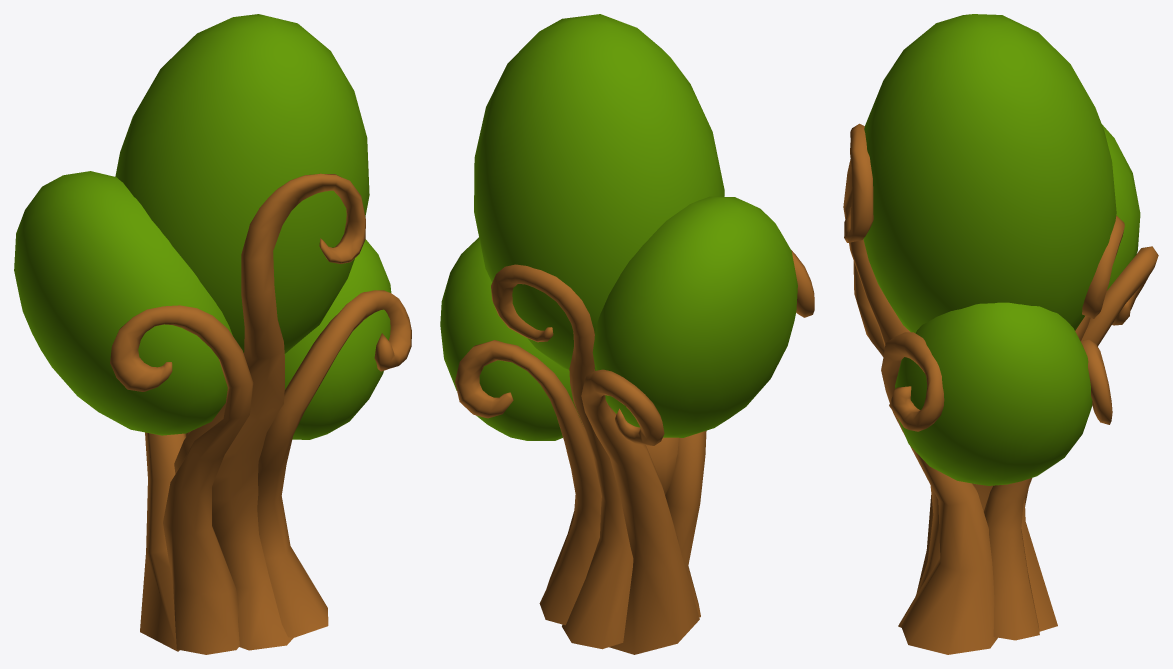
Rendered from tree_02.FBX.
3 views of the same model, side by side, from view 1: azimuth 30°, elevation 25°; view 2: azimuth 150°, elevation 25°; view 3: azimuth 270°, elevation 25° (orthographic). The views are drawn at different scales.
Visible parts, largest first — view 1: tree_02; view 2: tree_02; view 3: tree_02.
Boxes of the visible parts, <box> form: tree_02: <box>14,14,411,654</box>; tree_02: <box>440,14,814,654</box>; tree_02: <box>843,14,1158,654</box>.
Bounding box in the file's own units: 463 × 794 × 364.
